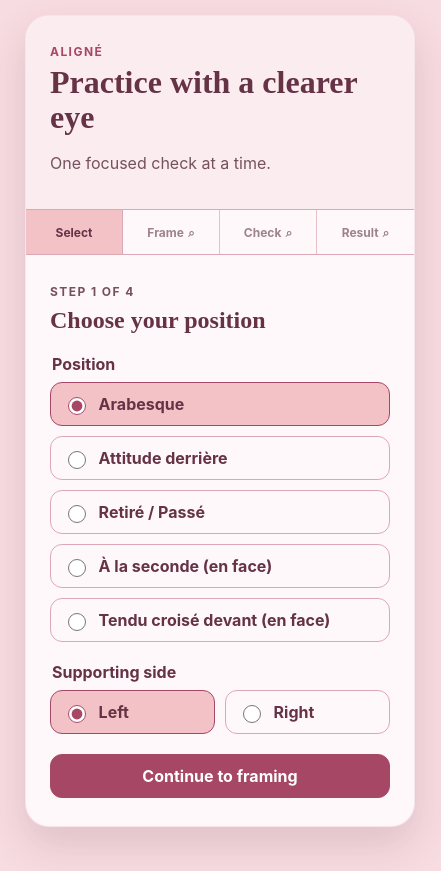
Test: App › uses the selection card radios and keeps only its active card mounted
The image size is (441, 871).
Check: the radio button labelled "Arabesque" is checked, box [68, 397, 86, 415]
Click the button "Continue to framing" at (220, 776), box [50, 754, 390, 798]
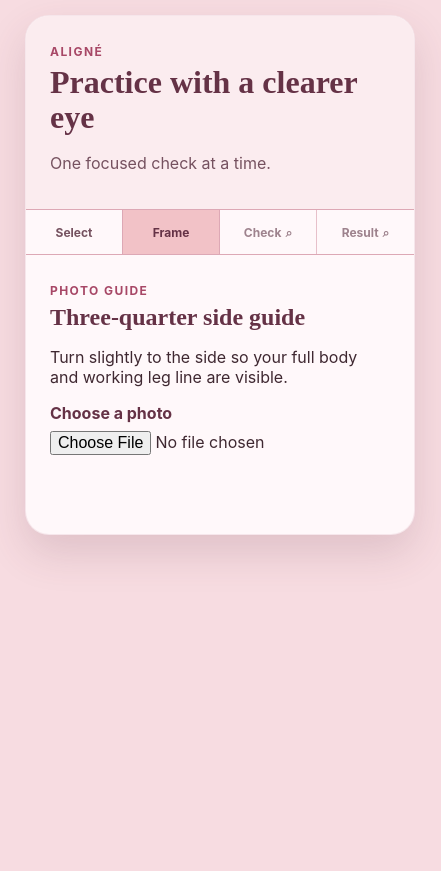
Check: the tab "Result ⌕" is disabled, box [317, 210, 414, 254]
Check: the element named "Photo framing" is shown, box [26, 255, 414, 483]
Check: the radio button labelled "Select position" is gone
